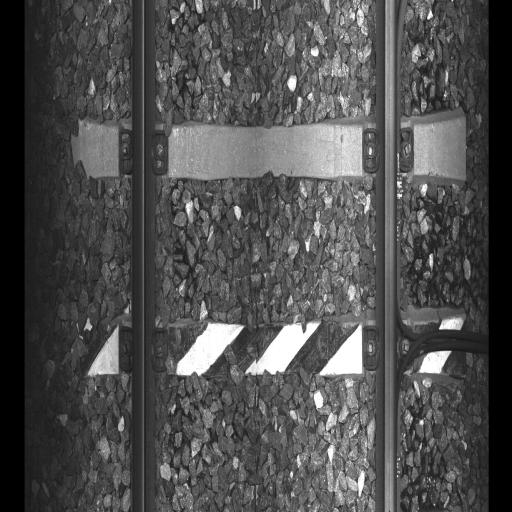sleeper: (70, 120, 468, 182), (70, 320, 470, 380)
